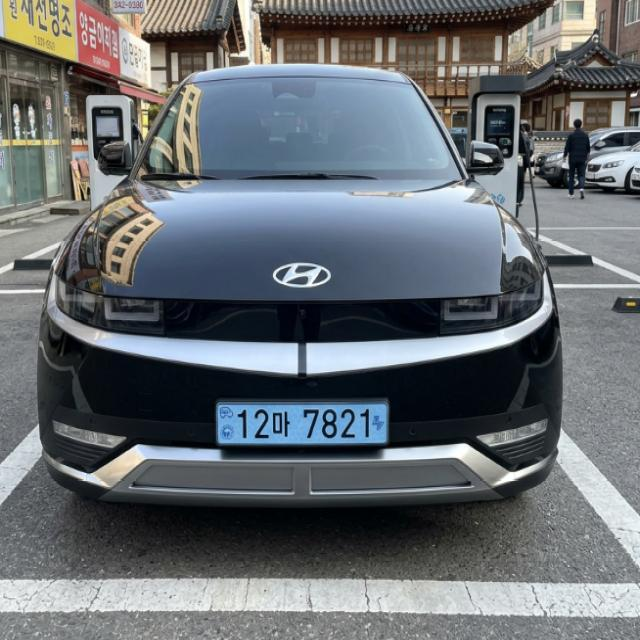car: (208, 388, 408, 462)
carev: (368, 400, 389, 452), (217, 401, 236, 448)
